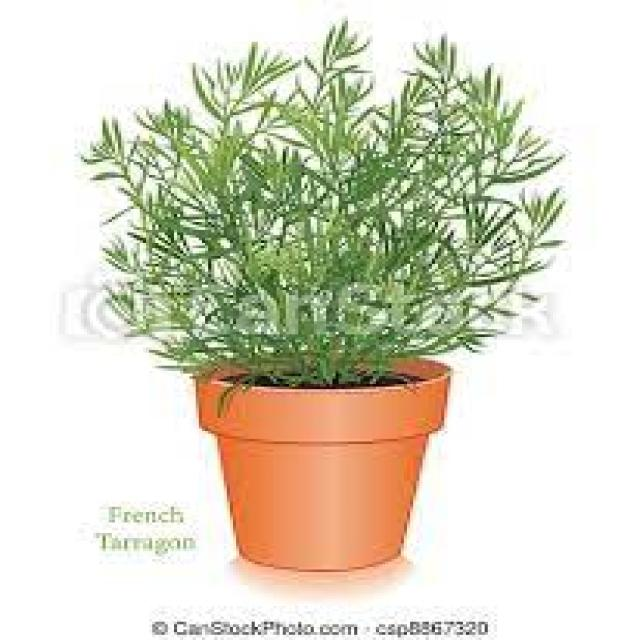plant: (97, 16, 570, 568)
